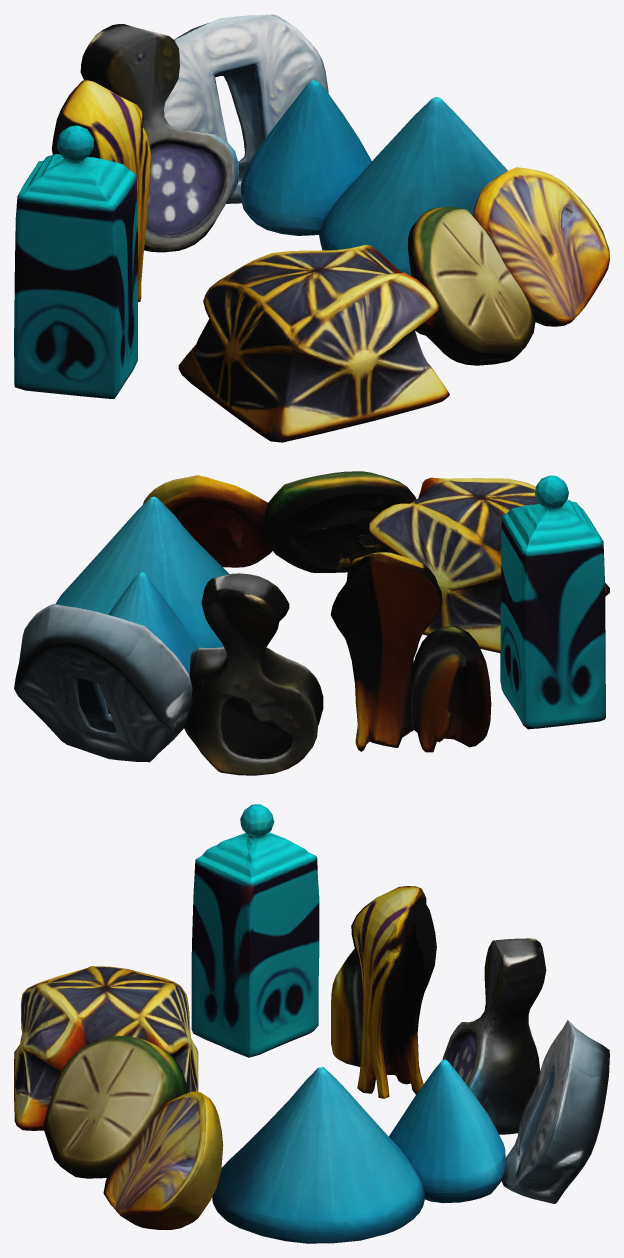
Rendered from clay-board-game-pieces-art-deco.jpeg.glb.
The picture shows the model from 3 angles, top to bottom: view 1: azimuth 30°, elevation 25°; view 2: azimuth 150°, elevation 25°; view 3: azimuth 270°, elevation 25°; orthographic projection. The views are drawn at different scales.
Parts seen in each view (by area): view 1: world; view 2: world; view 3: world.
Part boxes in pixels (<box>): world: <box>14,14,609,442</box>; world: <box>14,471,609,775</box>; world: <box>14,804,609,1243</box>.
Size of the model in its own units: 0.9803 by 0.4492 by 1.
1 material, 1 textured.
